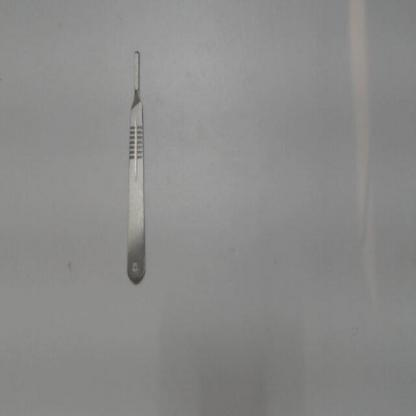No.4 BP Handle: (124, 42, 148, 287)
